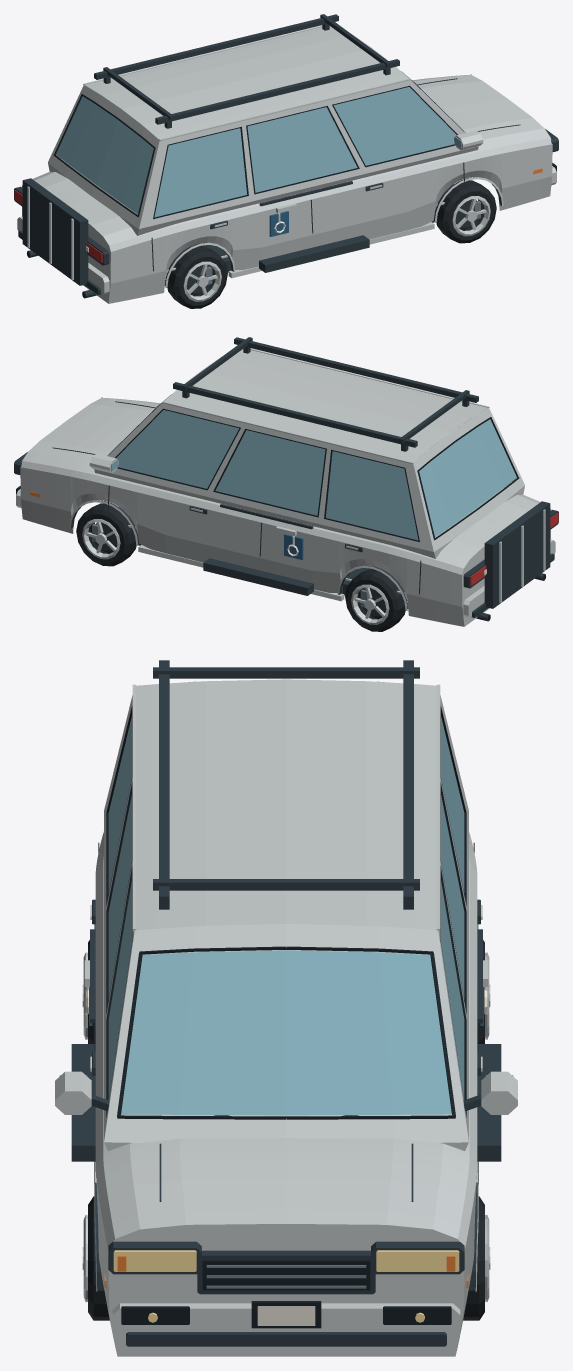
File: b03_wheelchair_accessible_van.glb
3 views of the same model, one above another, from view 1: azimuth 30°, elevation 25°; view 2: azimuth 150°, elevation 25°; view 3: azimuth 270°, elevation 25° (orthographic). The views are drawn at different scales.
Visible parts, largest first — view 1: b03_wheelchair_accessible_van; view 2: b03_wheelchair_accessible_van; view 3: b03_wheelchair_accessible_van.
Part boxes in pixels (x1,y1,x2,y2): b03_wheelchair_accessible_van: (14,14,558,308); b03_wheelchair_accessible_van: (14,337,558,631); b03_wheelchair_accessible_van: (55,660,517,1356).
Bounding box in the file's own units: 5.59 × 2.12 × 2.4.
